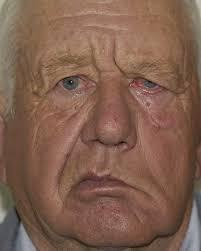strokeEyeSevere: (29, 45, 186, 110)
strokeMouthMid: (48, 163, 155, 203)
